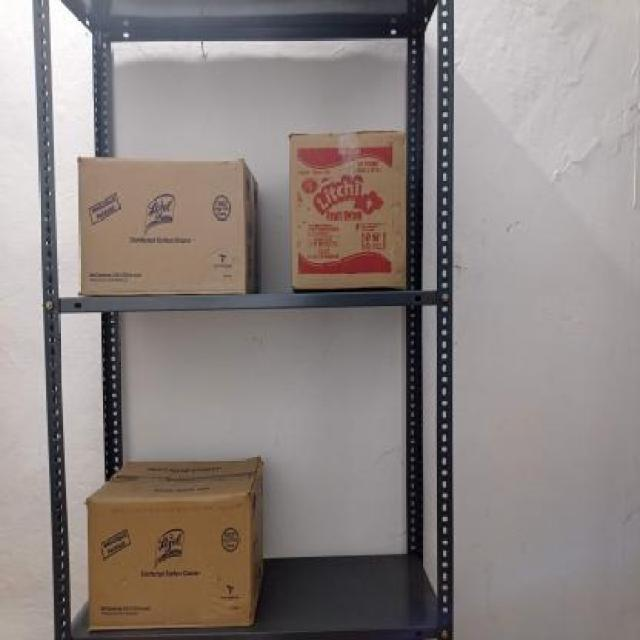box: (77, 156, 245, 298), (85, 496, 250, 630), (288, 127, 410, 290)
